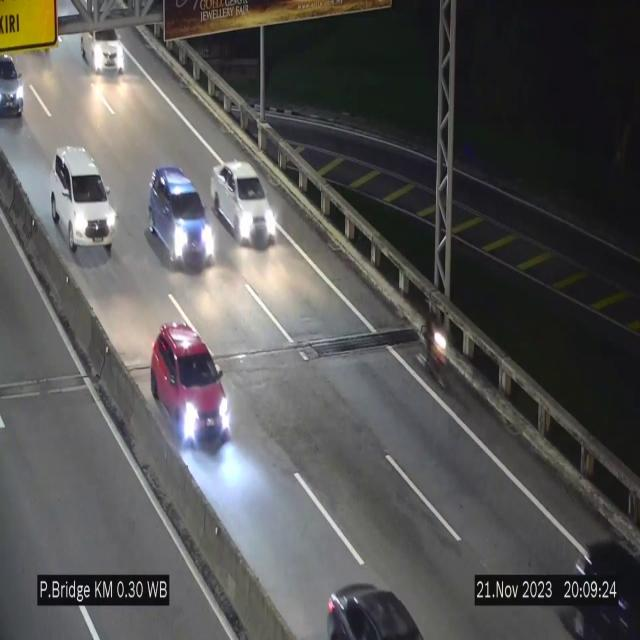Car: (149, 318, 233, 458), (550, 515, 640, 640), (316, 566, 428, 640), (148, 165, 216, 269), (51, 147, 115, 257), (211, 161, 275, 243), (84, 22, 128, 81), (0, 47, 32, 117)
Motorcycle: (421, 306, 447, 394)
